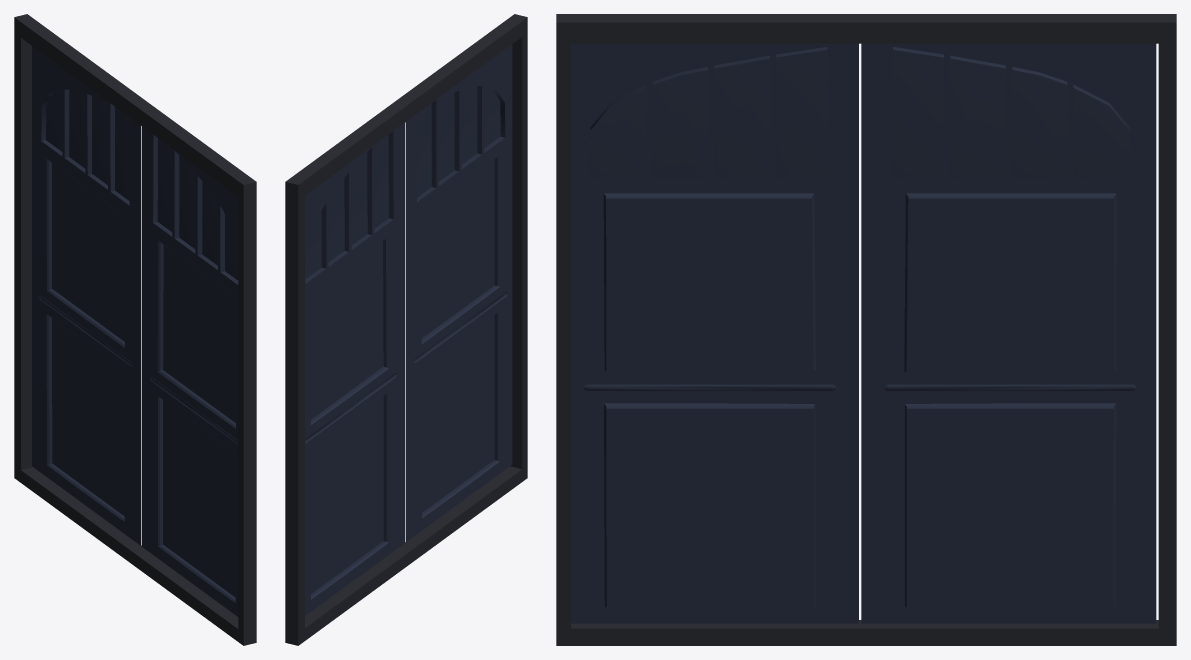
File: uploads_files_840247_GarageDoors.fbx
3 renders of one model, left to right at view 1: azimuth 30°, elevation 25°; view 2: azimuth 150°, elevation 25°; view 3: azimuth 270°, elevation 25°, orthographic. The views are drawn at different scales.
Parts seen in each view (by area): view 1: Door, frame; view 2: Door, frame; view 3: Door, frame.
Part boxes in pixels (box(x1,y1,x2,y2)): Door: box(32, 46, 238, 616); frame: box(14, 14, 256, 645); Door: box(305, 44, 512, 615); frame: box(285, 14, 527, 645); Door: box(571, 43, 1156, 623); frame: box(556, 14, 1176, 645).
Size of the model in its own units: 10.5 by 312 by 282.
